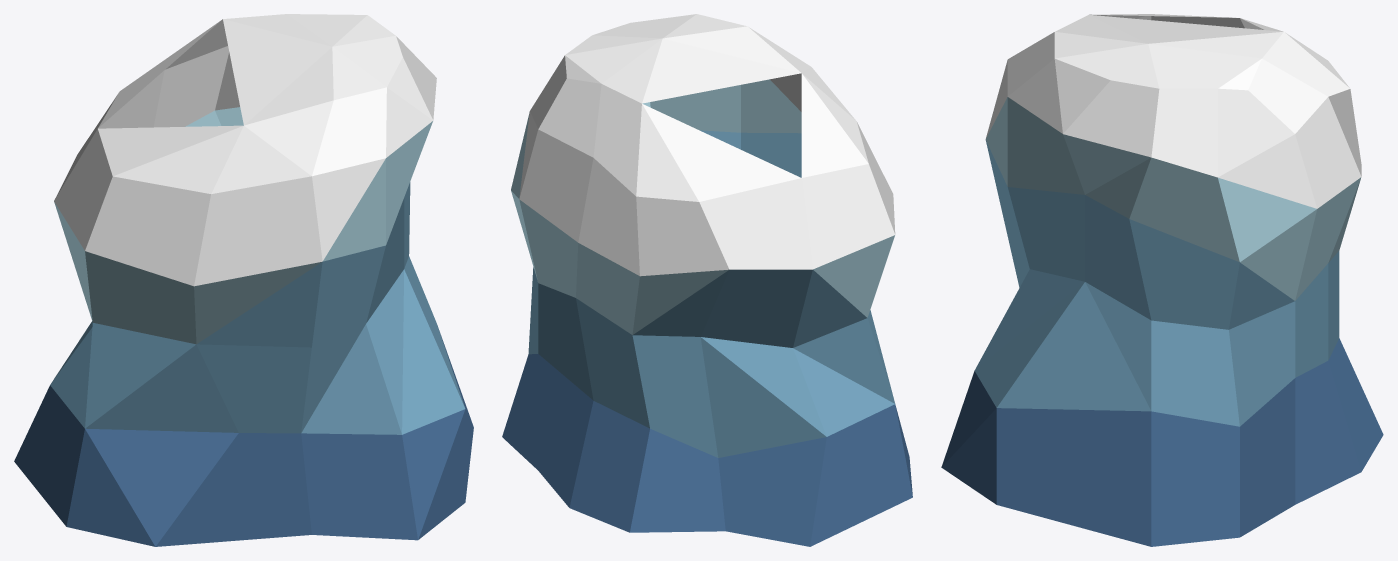
The model's file is rockSmall2.fbx.
3 renders of one model, left to right at view 1: azimuth 30°, elevation 25°; view 2: azimuth 150°, elevation 25°; view 3: azimuth 270°, elevation 25°, orthographic. The views are drawn at different scales.
Parts seen in each view (by area): view 1: mesh; view 2: mesh; view 3: mesh.
Part boxes in pixels (box(x1,y1,x2,y2)): mesh: box(14, 14, 473, 546); mesh: box(502, 14, 912, 546); mesh: box(941, 14, 1383, 546).
Bounding box in the file's own units: 360 × 352 × 328.
1 material, 1 textured.
